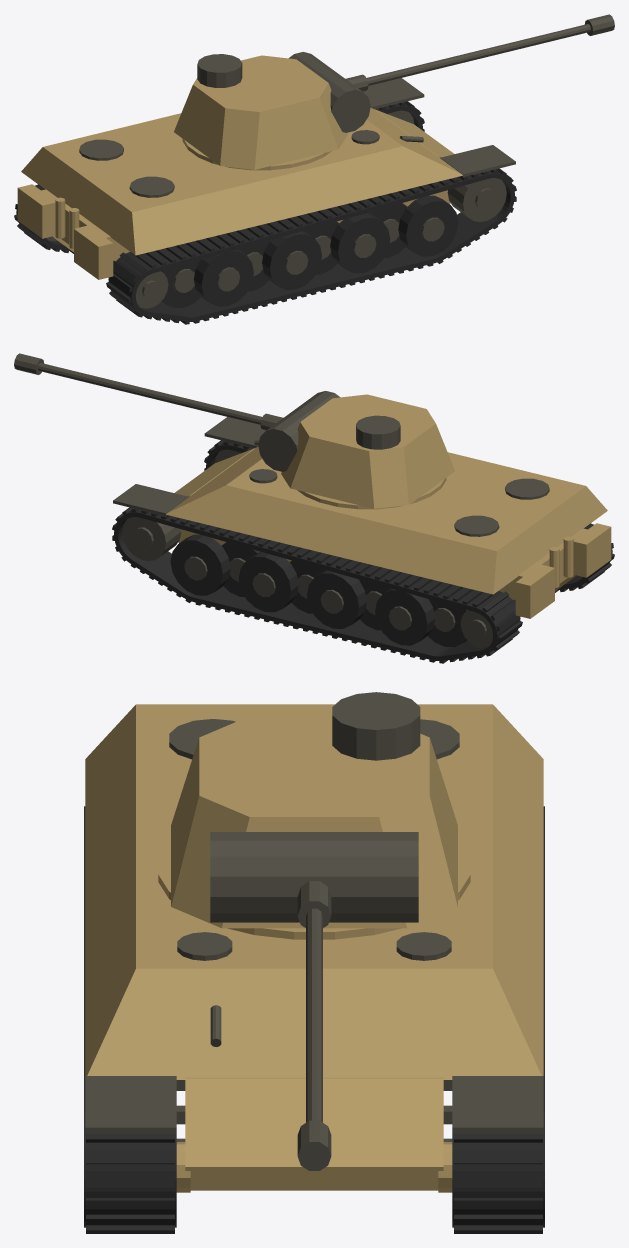
File: de_panther.obj
3 views of the same model, one above another, from view 1: azimuth 30°, elevation 25°; view 2: azimuth 150°, elevation 25°; view 3: azimuth 270°, elevation 25° (orthographic). The views are drawn at different scales.
Bounding box in the file's own units: 9.08 × 2.88 × 3.28.
